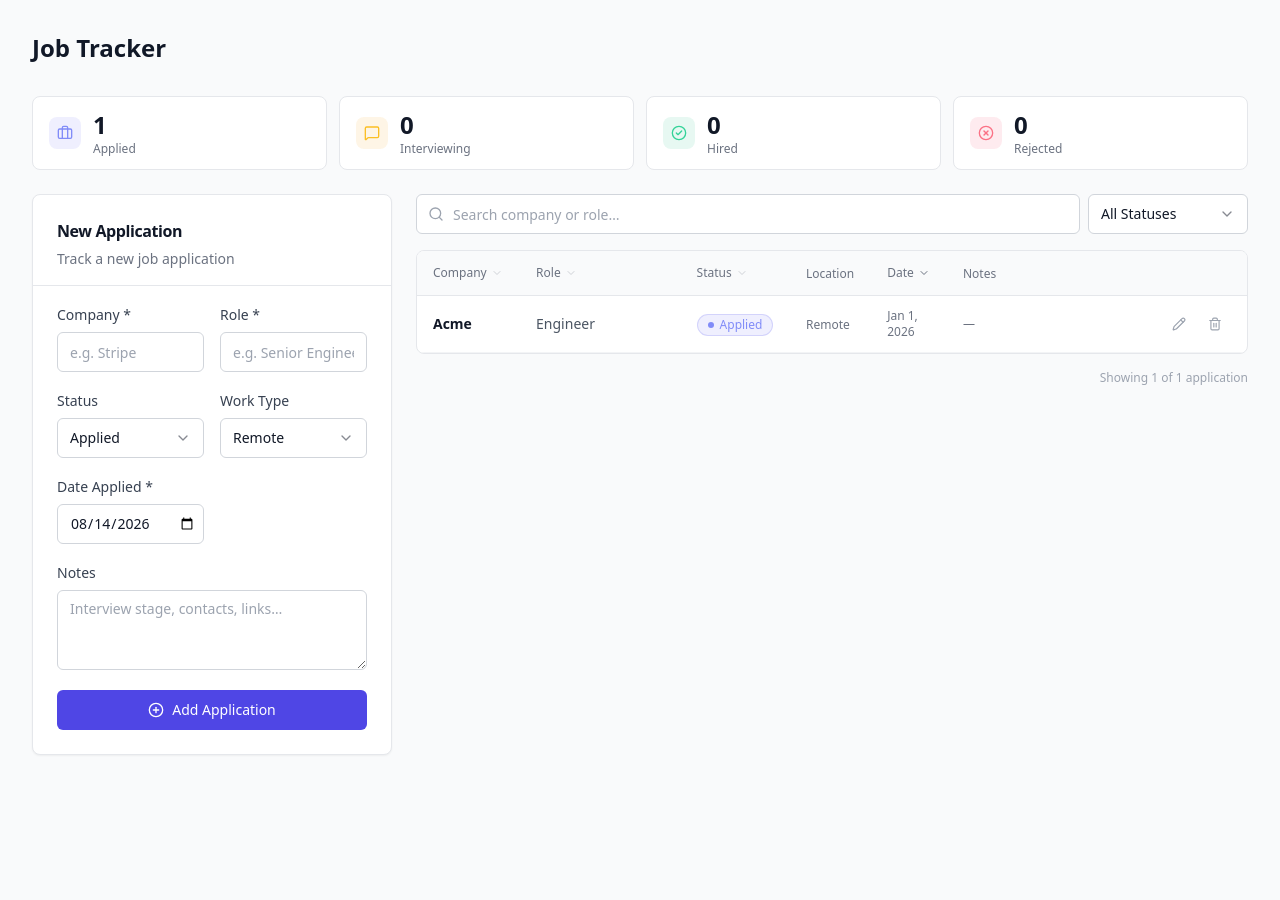
App › clears the edit target when deleting the application currently being edited
Click the button named "Edit Acme — Engineer".
click(1179, 324)  # box [1163,308,1195,340]
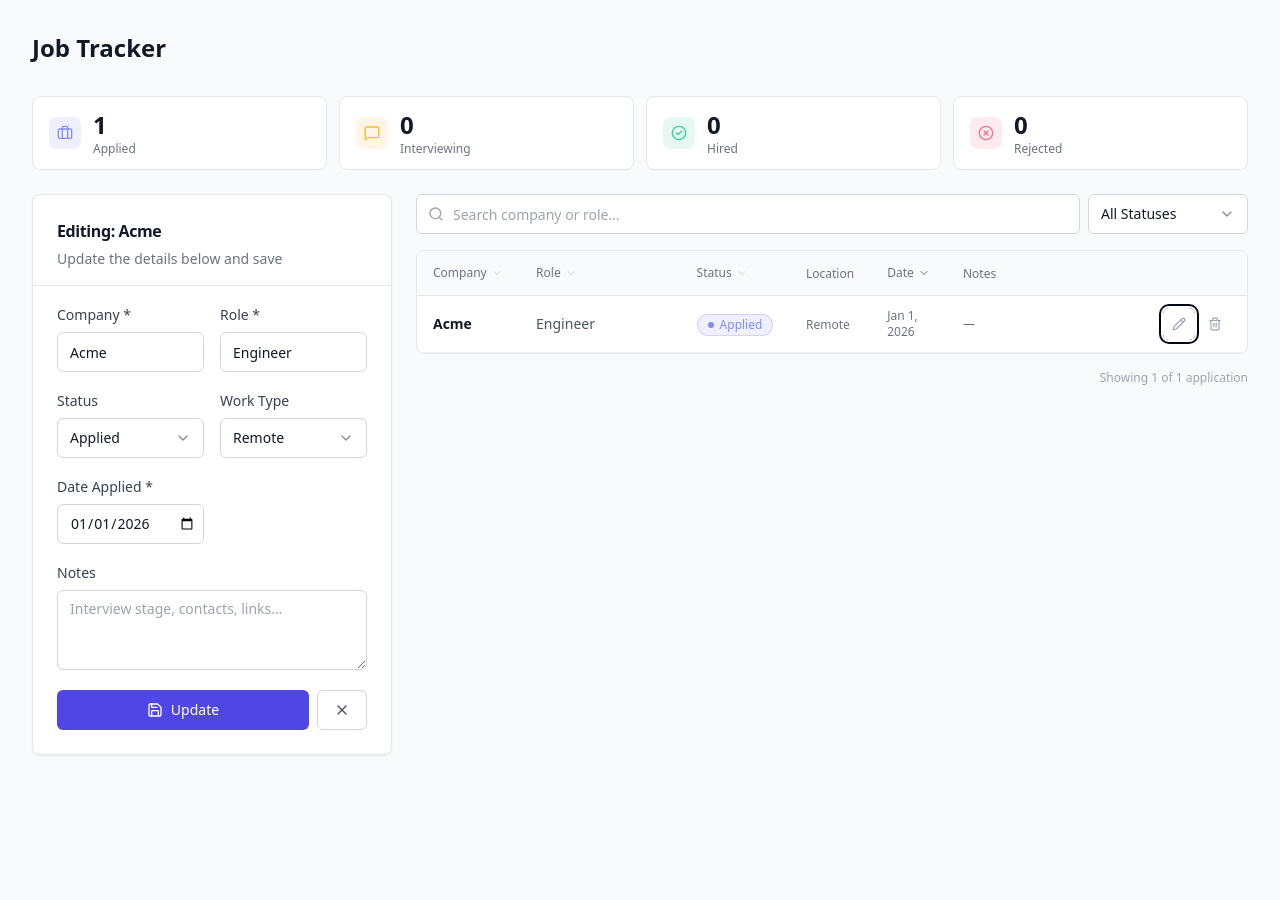
Expected: the heading "Editing: Acme" is shown, [57,220,161,242]
Click the button named "Delete Acme — Engineer".
click(1215, 324)  # box [1199,308,1231,340]
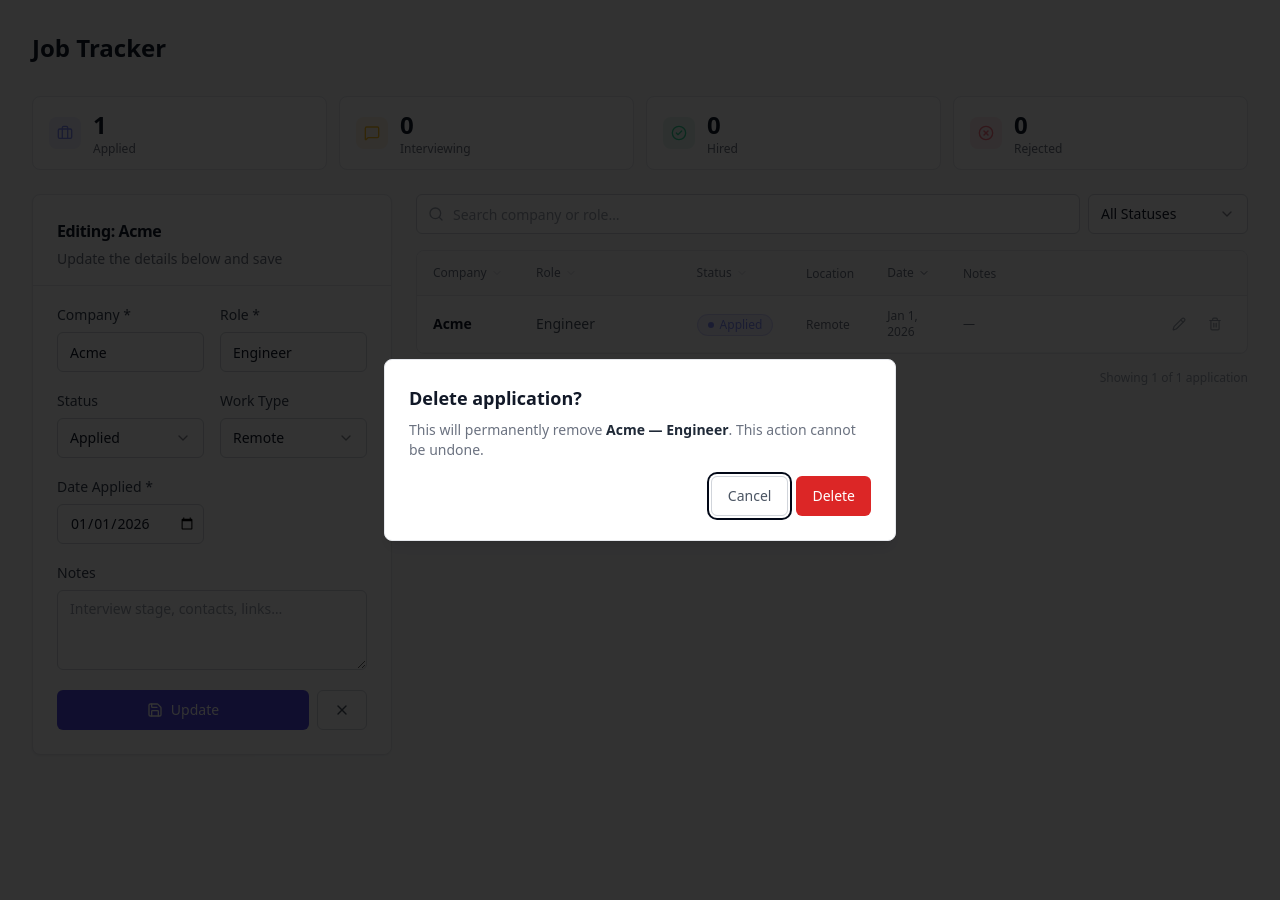
Click the button "Delete".
click(834, 496)  # box [796,476,871,516]
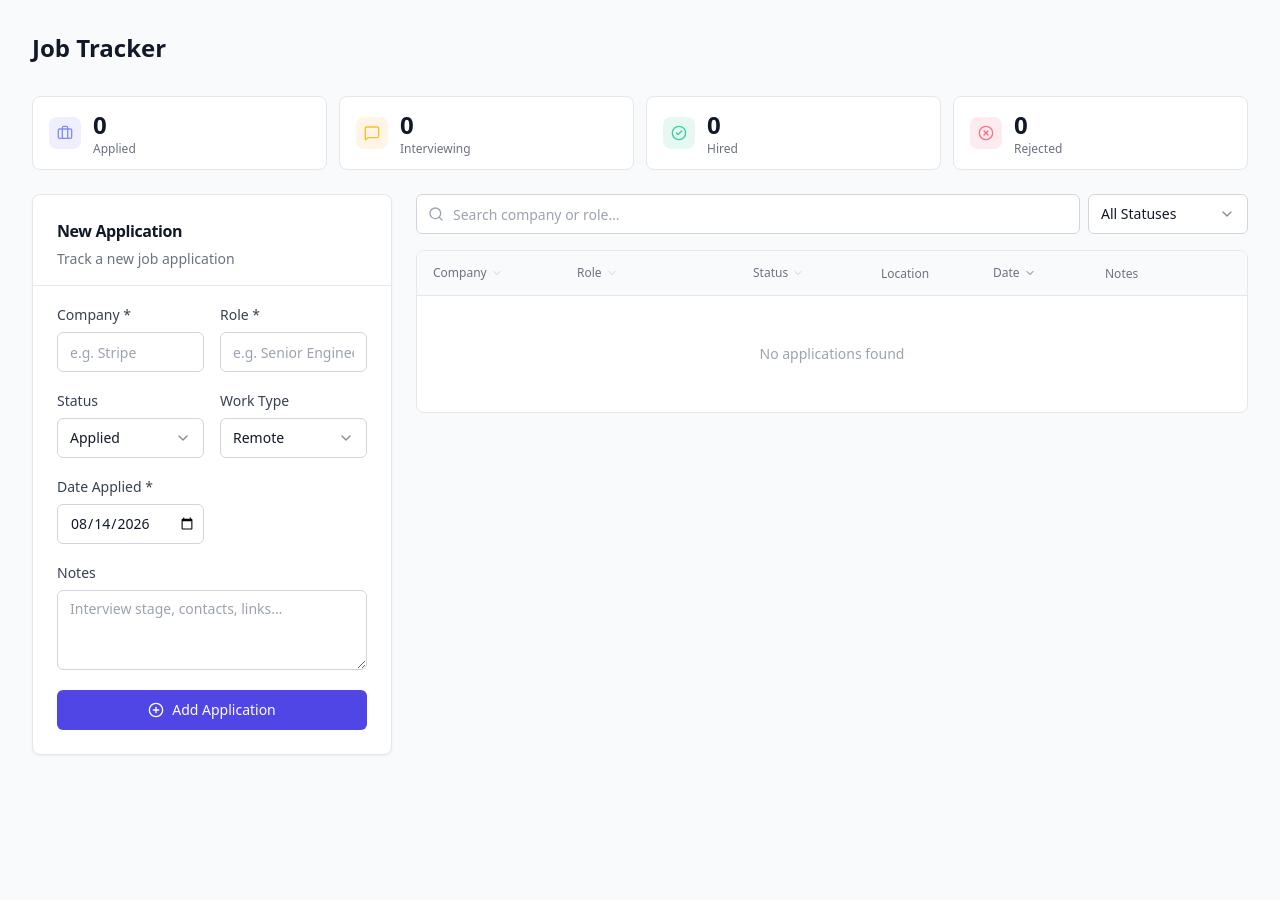
Expected: the heading "New Application" is shown, [57,220,182,242]
